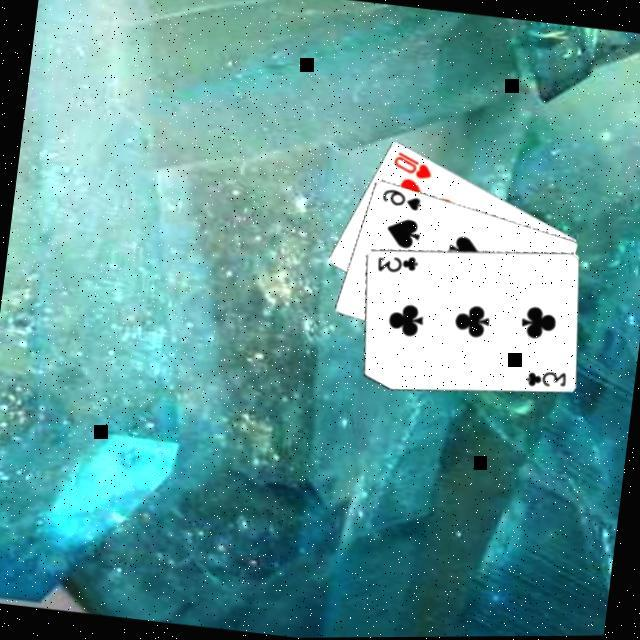10H: (386, 148, 434, 184)
3C: (369, 250, 418, 278), (520, 366, 566, 394)
6S: (375, 185, 423, 214)
